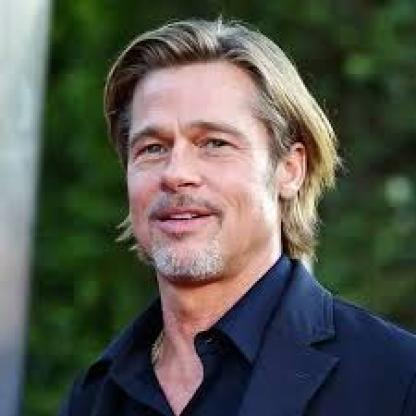person: (105, 18, 317, 286)
